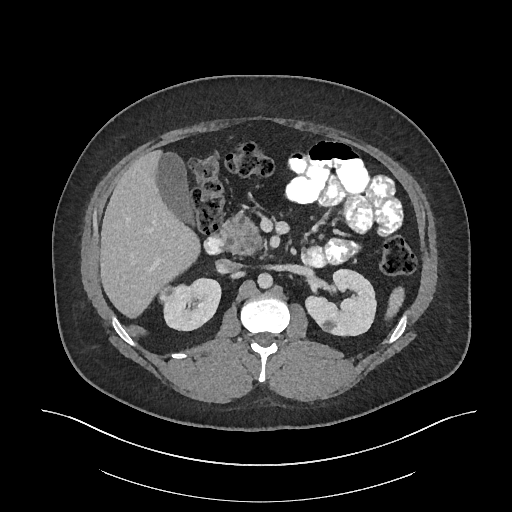Lesion: (320, 317, 343, 332)
